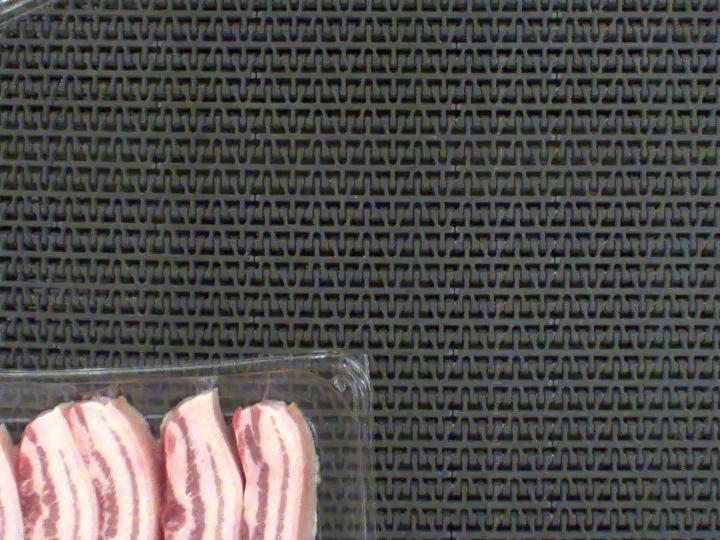packaging-error: (191, 373, 227, 398)
